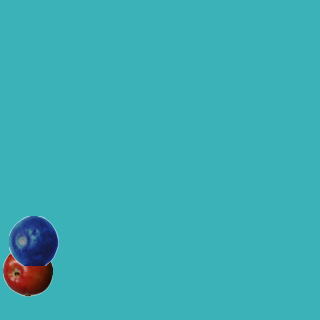Apple Braeburn: (2, 246, 52, 296)
Huckleberry: (8, 215, 58, 265)
